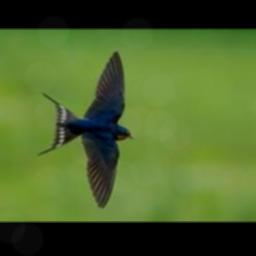Swallow: (37, 51, 134, 209)
